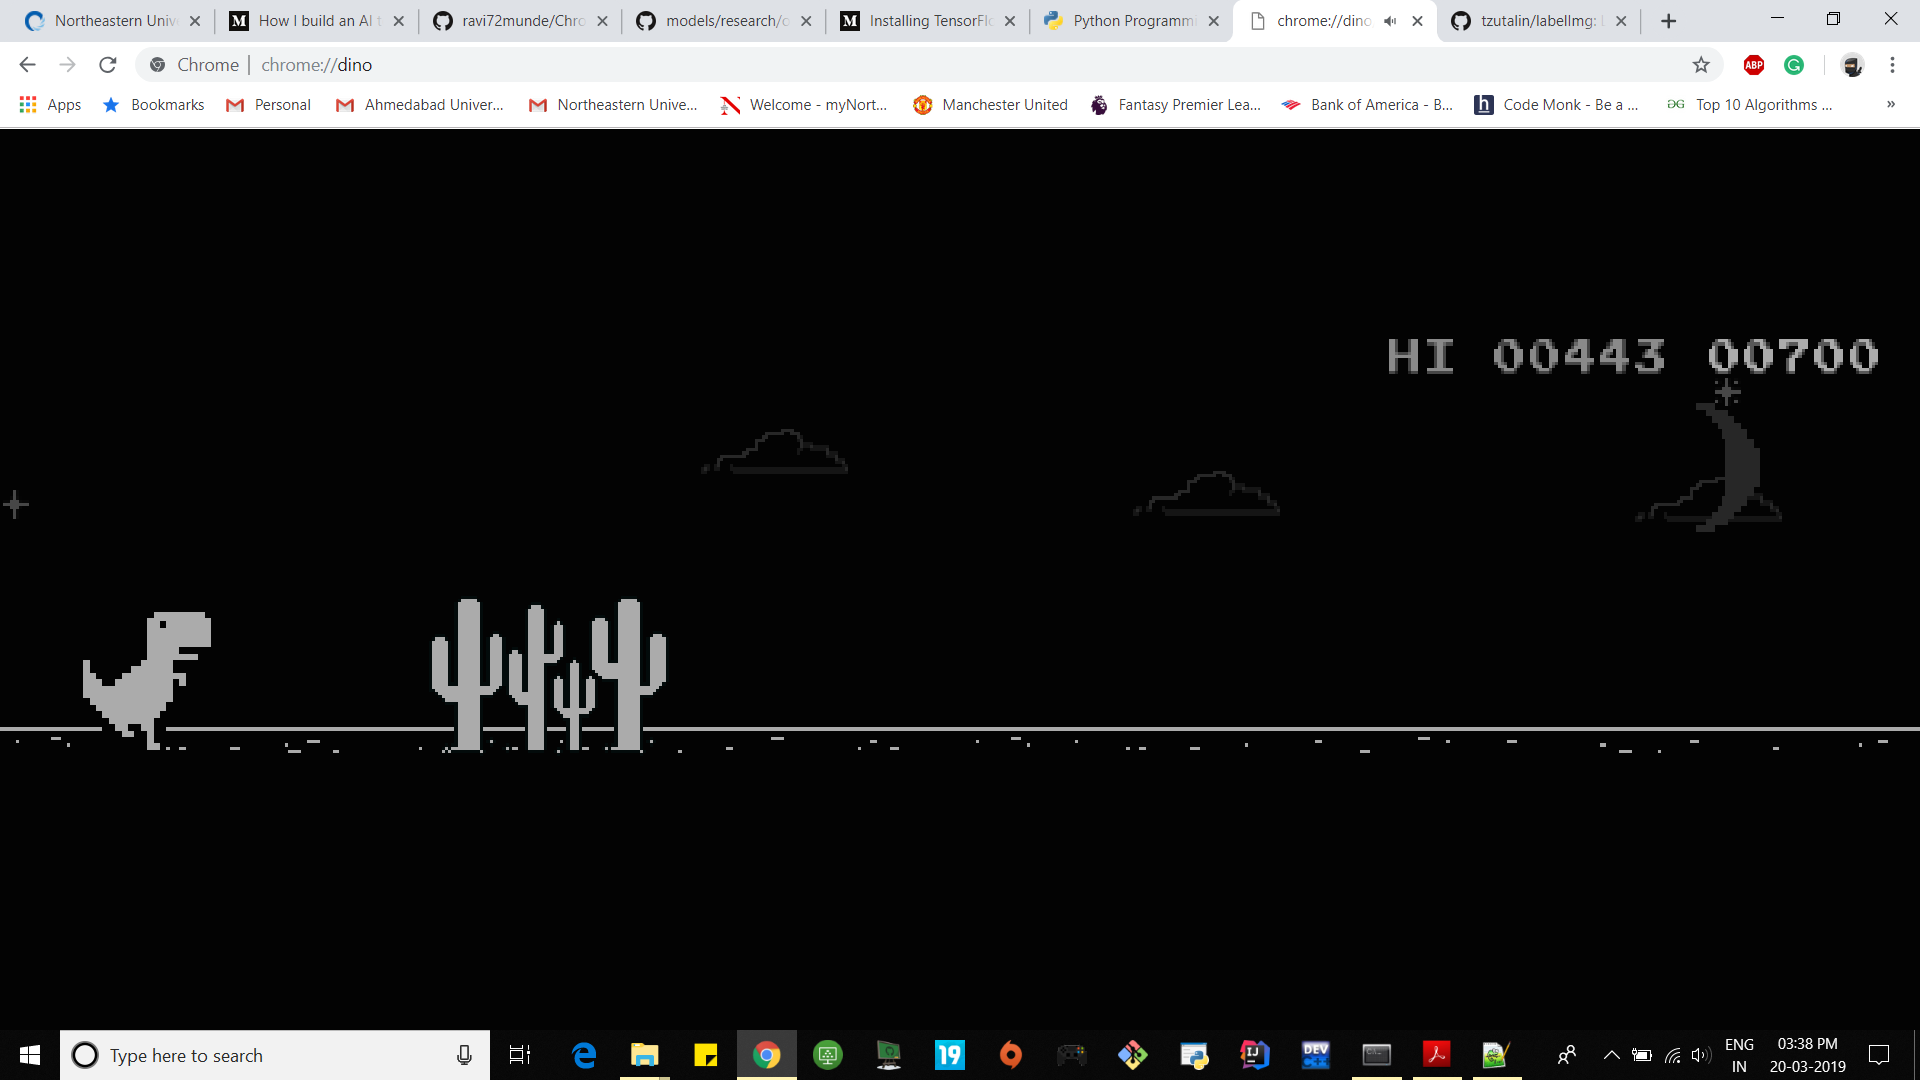cactus-4: (421, 599, 669, 760)
dino: (74, 607, 214, 756)
